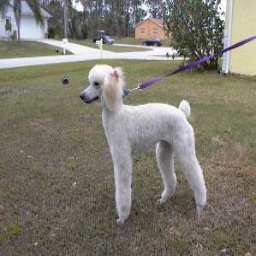dog: (80, 62, 207, 224)
